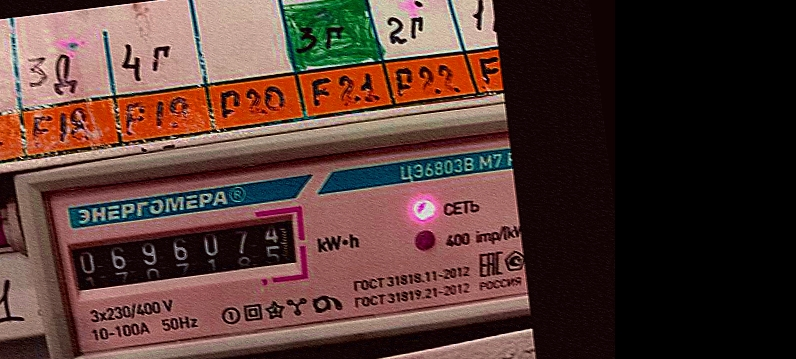0: (76, 247, 97, 274), (201, 229, 220, 257)
4: (262, 221, 279, 244)
5: (265, 243, 281, 264)
6: (107, 243, 128, 270), (170, 233, 189, 262)
7: (232, 227, 251, 254)
9: (139, 239, 159, 267)
screen: (60, 202, 313, 308)
